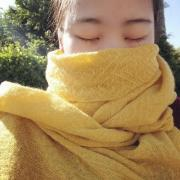OK: (67, 15, 153, 101)
